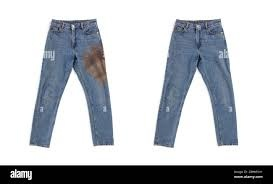earth: (86, 53, 105, 79)
